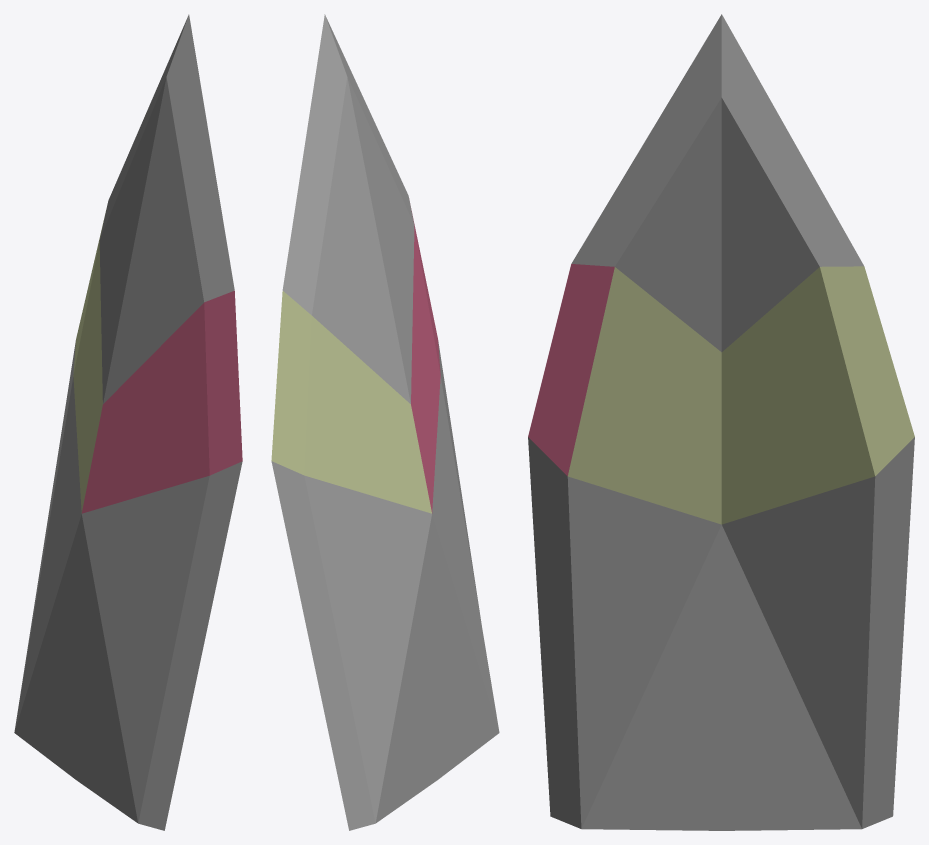
The model's file is surfboard.fbx.
3 renders of one model, left to right at view 1: azimuth 30°, elevation 25°; view 2: azimuth 150°, elevation 25°; view 3: azimuth 270°, elevation 25°, orthographic. The views are drawn at different scales.
Parts seen in each view (by area): view 1: pCylinder21; view 2: pCylinder21; view 3: pCylinder21.
Boxes of the visible parts, box(x1,y1,x2,y2) form: pCylinder21: box(14, 14, 242, 830); pCylinder21: box(271, 14, 499, 830); pCylinder21: box(528, 14, 914, 830).
Size of the model in its own units: 0.00314 by 0.0188 by 0.00763.
